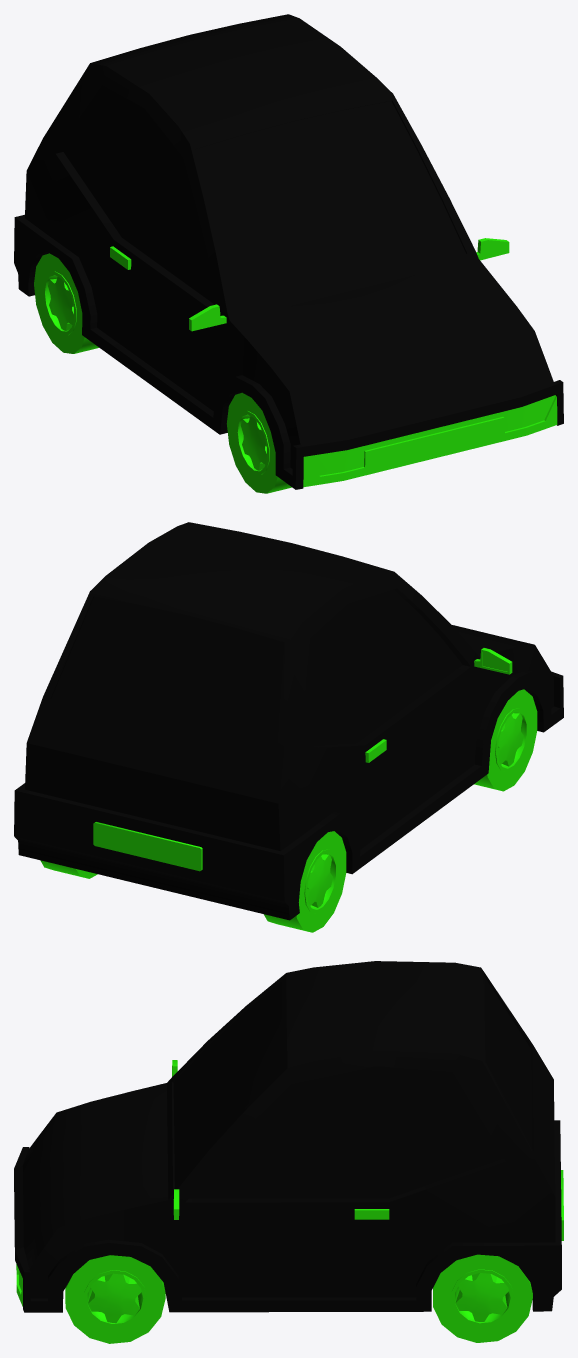
The model's file is Car.fbx.
3 views of the same model, one above another, from view 1: azimuth 30°, elevation 25°; view 2: azimuth 150°, elevation 25°; view 3: azimuth 270°, elevation 25° (orthographic). The views are drawn at different scales.
Parts seen in each view (by area): view 1: Car; view 2: Car; view 3: Car.
Boxes of the visible parts, bbox=[...] form: Car: bbox=[14, 14, 563, 493]; Car: bbox=[14, 522, 563, 932]; Car: bbox=[14, 961, 563, 1343].
Size of the model in its own units: 240 by 210 by 373.
